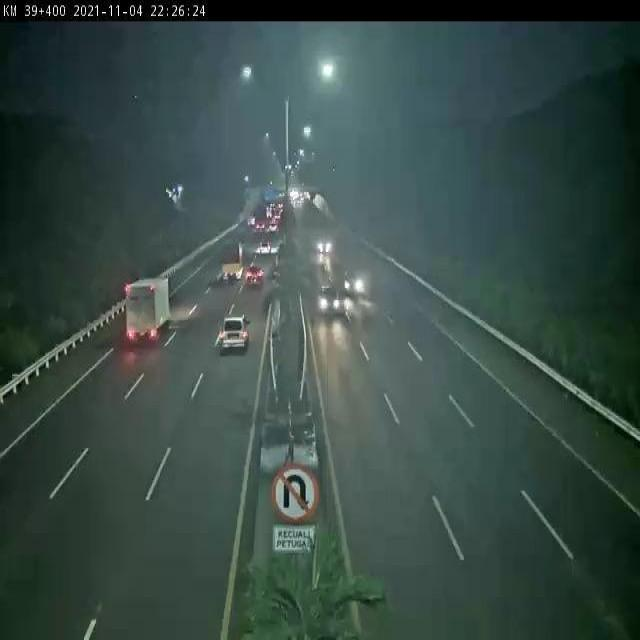car: (220, 315, 250, 352), (318, 284, 340, 316), (345, 269, 363, 296), (247, 265, 263, 287), (318, 236, 333, 256), (260, 241, 271, 255)
truck-l-: (127, 277, 172, 339)
truck-m-: (221, 242, 243, 278)
